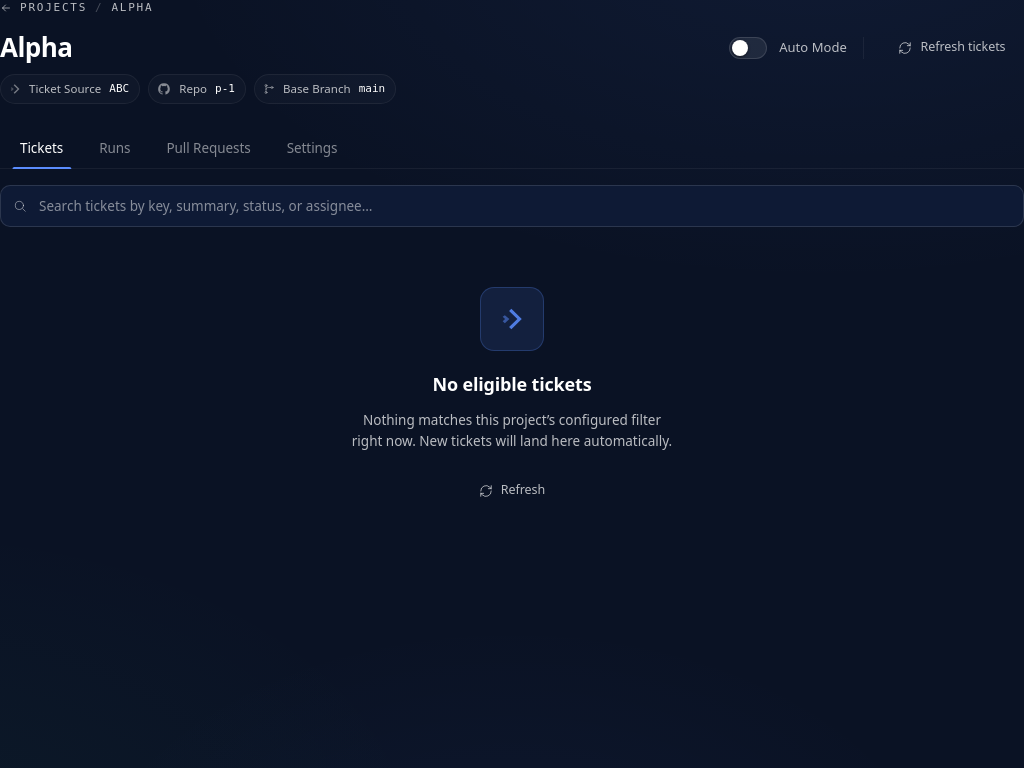
Test: <ProjectDetail> PRs tab — #GH-67 › PRS-016: clicking page-level Refresh while on PRs tab swaps stale rows for skeleton
Click the tab "Pull Requests" at (209, 148), box [150,128,267,168]
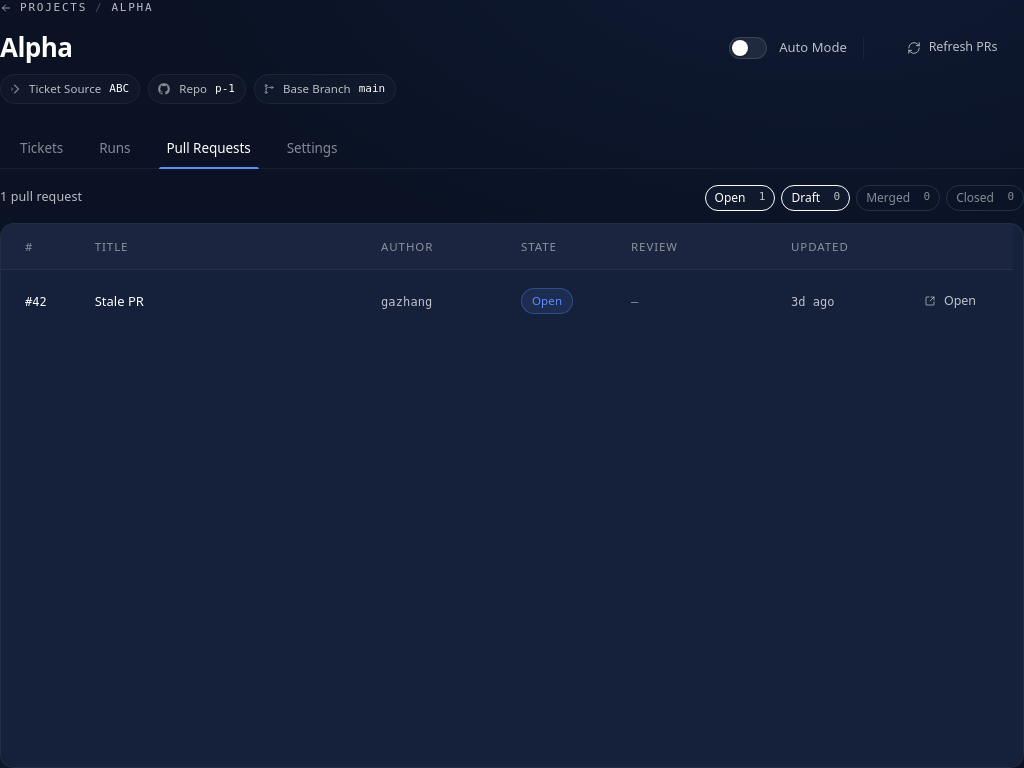
Result: the text "Stale PR" is shown at [95,292,144,310]
Click the button with test id "refresh-button" at (952, 48), box [880,32,1023,62]
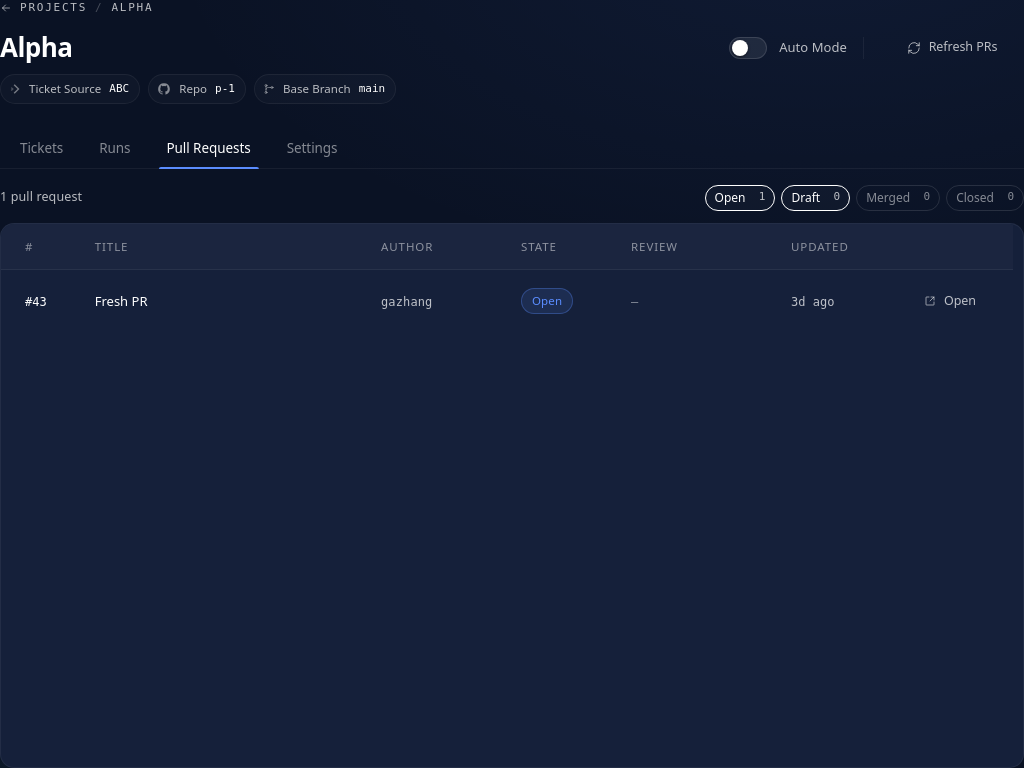
Result: the element with test id "pulls-table" is shown
Result: the text "Stale PR" is gone
Result: the text "Fresh PR" is shown at [95,292,148,310]
